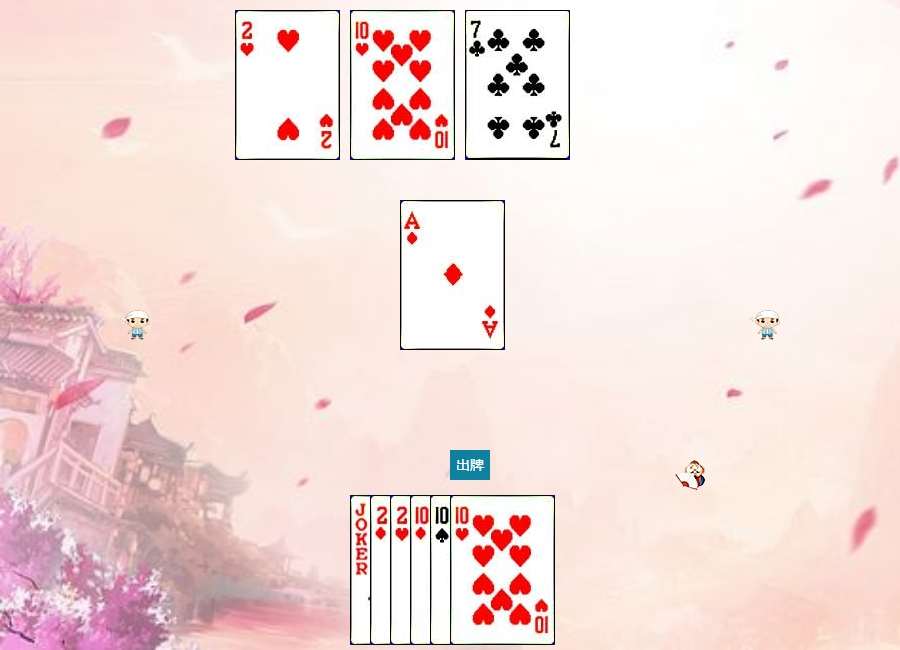10~1: (410, 495, 515, 645)
10~3: (350, 10, 455, 160), (450, 495, 555, 645)
10~4: (430, 495, 535, 645)
14~1: (400, 200, 505, 350)
15~1: (370, 495, 475, 645)
15~3: (235, 10, 340, 160), (390, 495, 495, 645)
18~4: (350, 495, 455, 645)
7~2: (465, 10, 570, 160)
